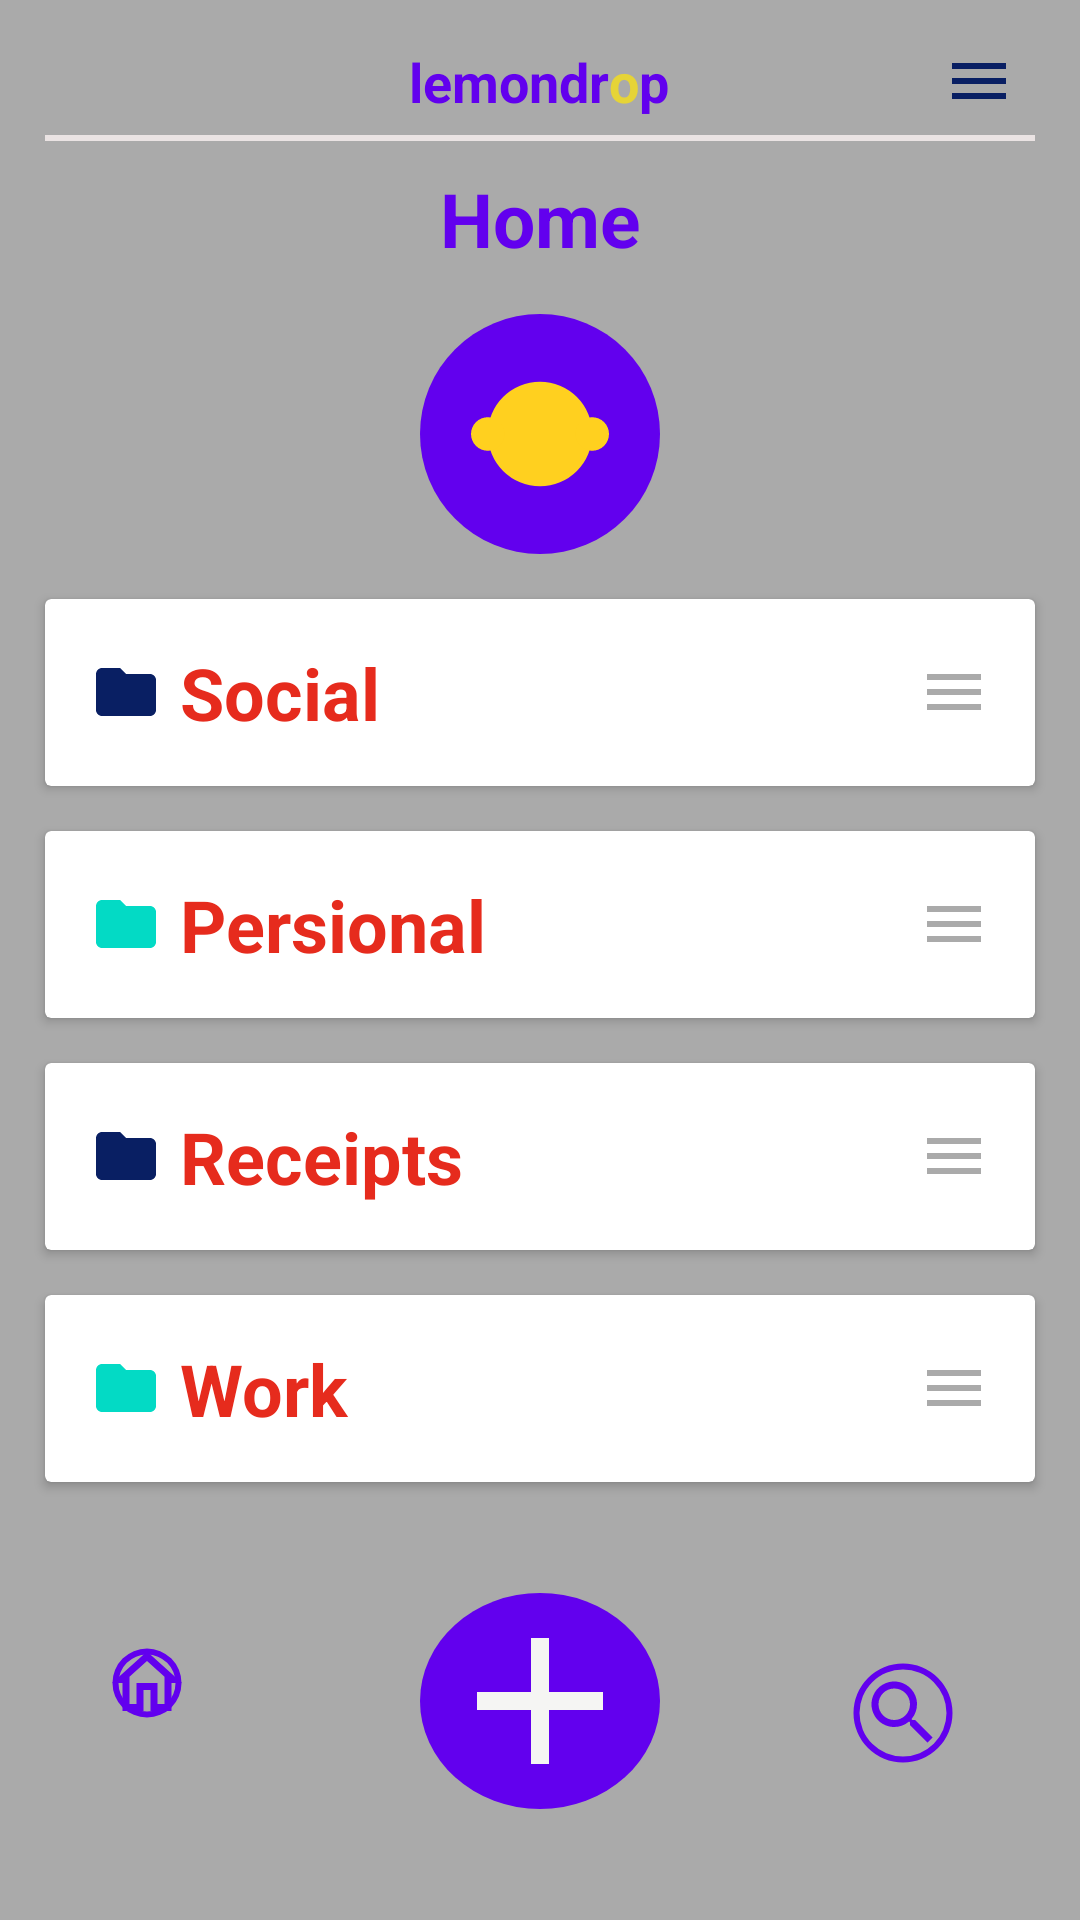

Icon click points for this 1080px×1920px phone screenshot, format point (x, y):
add: point (540, 1701)
home: point (147, 1683)
lemon: point (540, 434)
menu: point (979, 81), point (954, 692), point (954, 924), point (954, 1156), point (954, 1388)
search: point (903, 1713)
